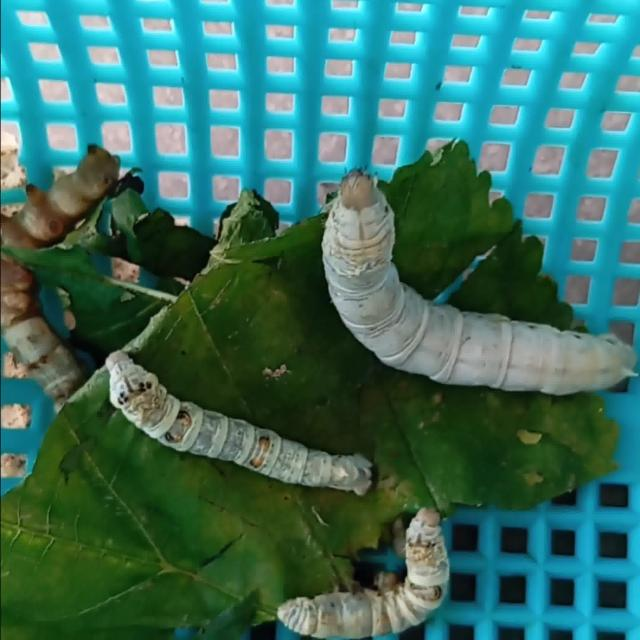Grasserie: (307, 136, 640, 408), (68, 310, 386, 538), (258, 501, 509, 640)
